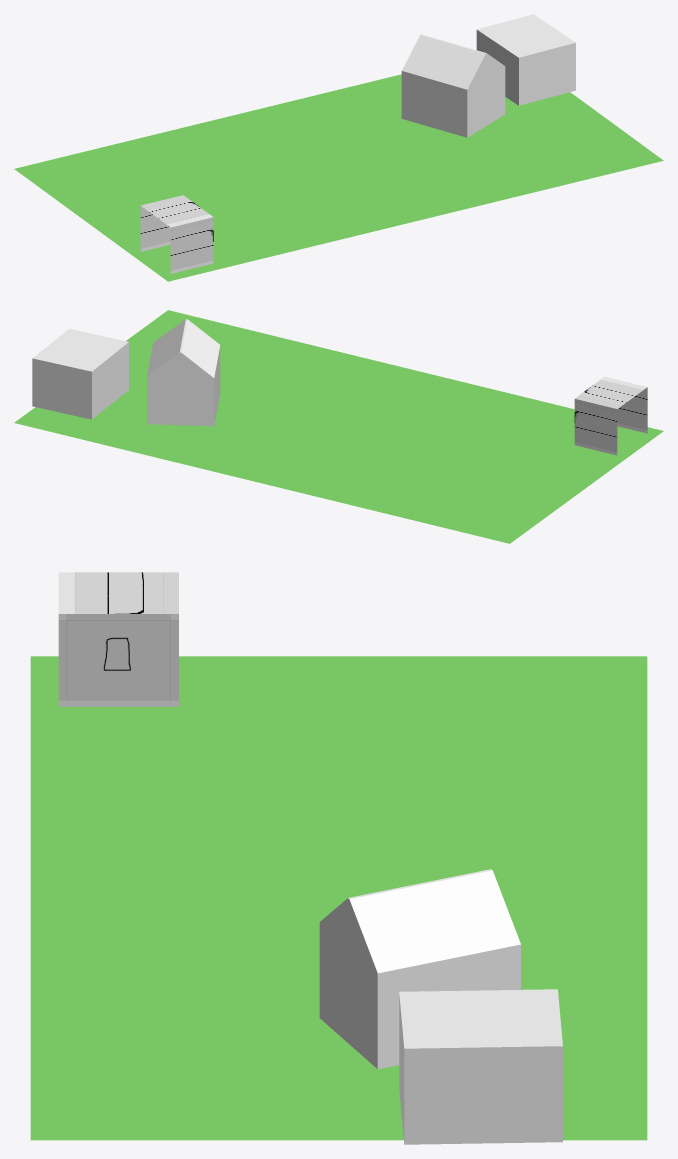
The model's file is Garden.fbx.
The picture shows the model from 3 angles, top to bottom: view 1: azimuth 30°, elevation 25°; view 2: azimuth 150°, elevation 25°; view 3: azimuth 270°, elevation 25°; orthographic projection. The views are drawn at different scales.
Parts seen in each view (by area): view 1: Plane, Plane.007, Plane.008, Plane.006; view 2: Plane, Plane.008, Plane.007, Plane.006; view 3: Plane, Plane.007, Plane.008, Plane.006.
Part boxes in pixels (x1=…): Plane: x1=14, y1=74, x2=663, y2=281; Plane.007: x1=401, y1=34, x2=505, y2=137; Plane.008: x1=476, y1=14, x2=575, y2=105; Plane.006: x1=140, y1=195, x2=213, y2=273; Plane: x1=14, y1=310, x2=663, y2=543; Plane.008: x1=32, y1=328, x2=128, y2=419; Plane.007: x1=147, y1=319, x2=220, y2=426; Plane.006: x1=574, y1=376, x2=647, y2=455; Plane: x1=30, y1=656, x2=647, y2=1140; Plane.007: x1=319, y1=869, x2=520, y2=1069; Plane.008: x1=399, y1=989, x2=562, y2=1144; Plane.006: x1=58, y1=572, x2=178, y2=706.
Size of the model in its own units: 2628 by 366 by 1400.
3 materials, 1 textured.
